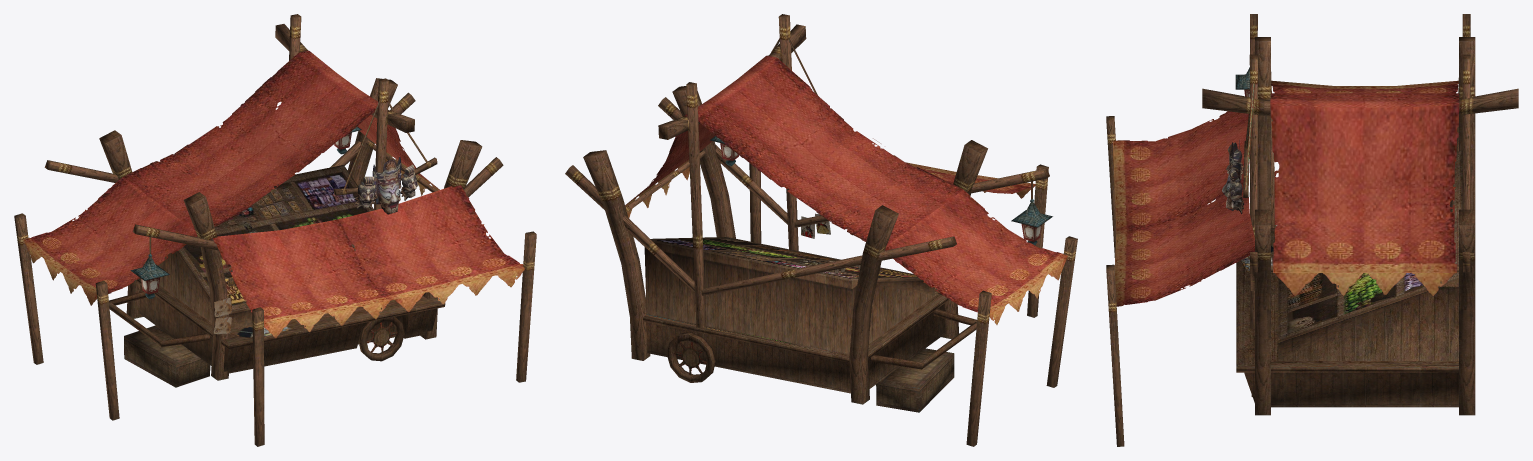
The model's file is cj_streetstall.glb.
3 views of the same model, side by side, from view 1: azimuth 30°, elevation 25°; view 2: azimuth 150°, elevation 25°; view 3: azimuth 270°, elevation 25° (orthographic). The views are drawn at different scales.
Visible parts, largest first — view 1: CJ_StreetStall_02, CJ_StreetStall_01; view 2: CJ_StreetStall_01, CJ_StreetStall_02; view 3: CJ_StreetStall_02, CJ_StreetStall_01.
Boxes of the visible parts, box(x1,y1,x2,y2) form: CJ_StreetStall_02: box(23, 50, 524, 353); CJ_StreetStall_01: box(14, 14, 536, 446); CJ_StreetStall_01: box(565, 14, 1077, 446); CJ_StreetStall_02: box(625, 37, 1067, 374); CJ_StreetStall_02: box(1113, 80, 1459, 306); CJ_StreetStall_01: box(1106, 14, 1518, 446).
Size of the model in its own units: 8.59 by 5.77 by 6.34.
2 materials, 2 textured.
